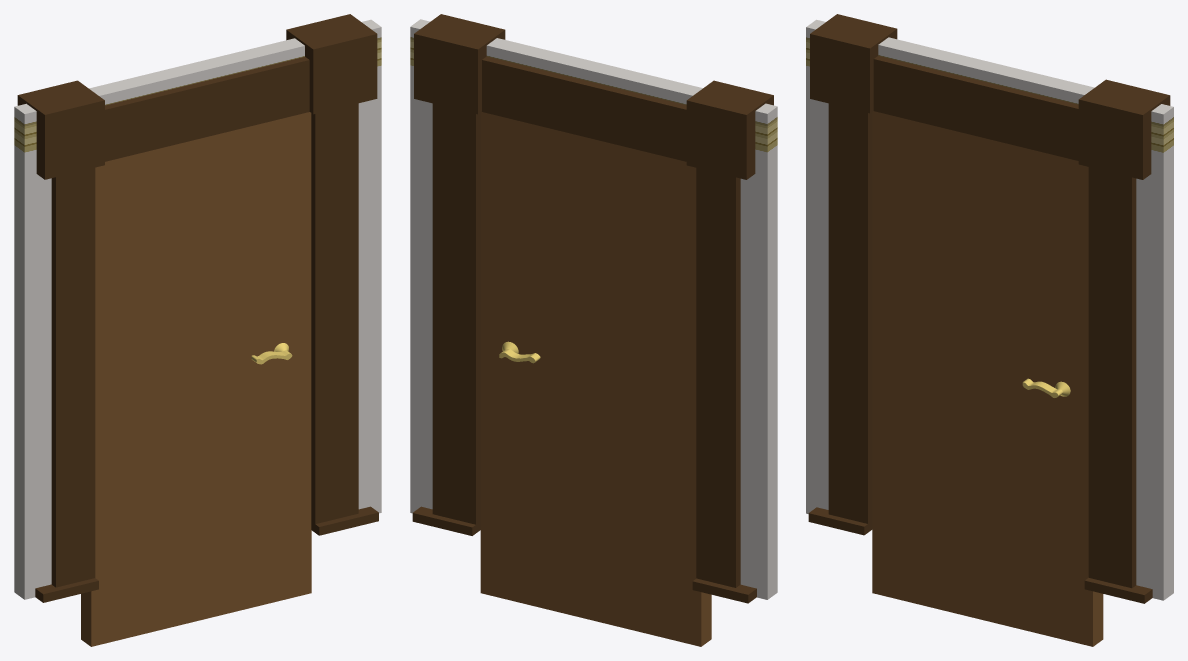
Rendered from singledoor.fbx.
3 renders of one model, left to right at view 1: azimuth 30°, elevation 25°; view 2: azimuth 150°, elevation 25°; view 3: azimuth 330°, elevation 25°, orthographic.
Visible parts, largest first — view 1: geo_door_02, geo_SingleWallFull_01, geo_doorFrameSide_01, geo_doorFrameSide_05, geo_doorFrameTop_01, geo_doorFrameSide_03, geo_doorFrameSide_07, geo_doorFrameSide_02, geo_doorFrameSide_06; view 2: geo_door_02, geo_SingleWallFull_01, geo_doorFrameSide_01, geo_doorFrameSide_05, geo_doorFrameTop_01, geo_doorFrameSide_03, geo_doorFrameSide_07, geo_doorFrameSide_02, geo_doorFrameSide_06; view 3: geo_door_02, geo_SingleWallFull_01, geo_doorFrameSide_01, geo_doorFrameSide_05, geo_doorFrameTop_01, geo_doorFrameSide_03, geo_doorFrameSide_07, geo_doorFrameSide_02, geo_doorFrameSide_06.
Boxes of the visible parts, x1=… form: geo_door_02: x1=81, y1=112, x2=311, y2=646; geo_SingleWallFull_01: x1=14, y1=19, x2=381, y2=599; geo_doorFrameSide_01: x1=311, y1=103, x2=358, y2=524; geo_doorFrameSide_05: x1=51, y1=167, x2=95, y2=587; geo_doorFrameTop_01: x1=105, y1=57, x2=309, y2=161; geo_doorFrameSide_03: x1=286, y1=14, x2=377, y2=114; geo_doorFrameSide_07: x1=17, y1=80, x2=104, y2=179; geo_doorFrameSide_02: x1=311, y1=506, x2=378, y2=535; geo_doorFrameSide_06: x1=35, y1=578, x2=98, y2=602; geo_door_02: x1=480, y1=112, x2=711, y2=646; geo_SingleWallFull_01: x1=410, y1=19, x2=777, y2=599; geo_doorFrameSide_01: x1=432, y1=103, x2=480, y2=524; geo_doorFrameSide_05: x1=696, y1=168, x2=740, y2=587; geo_doorFrameTop_01: x1=482, y1=56, x2=686, y2=161; geo_doorFrameSide_03: x1=414, y1=14, x2=505, y2=114; geo_doorFrameSide_07: x1=686, y1=80, x2=773, y2=179; geo_doorFrameSide_02: x1=412, y1=506, x2=480, y2=535; geo_doorFrameSide_06: x1=692, y1=578, x2=756, y2=603; geo_door_02: x1=872, y1=111, x2=1103, y2=646; geo_SingleWallFull_01: x1=806, y1=19, x2=1173, y2=600; geo_doorFrameSide_01: x1=1088, y1=167, x2=1136, y2=588; geo_doorFrameSide_05: x1=828, y1=103, x2=872, y2=524; geo_doorFrameTop_01: x1=873, y1=56, x2=1078, y2=160; geo_doorFrameSide_03: x1=1078, y1=79, x2=1170, y2=179; geo_doorFrameSide_07: x1=810, y1=14, x2=897, y2=113; geo_doorFrameSide_02: x1=1084, y1=577, x2=1152, y2=603; geo_doorFrameSide_06: x1=808, y1=507, x2=872, y2=535.
Bounding box in the file's own units: 100 × 148 × 13.18.
4 materials, 1 textured.
